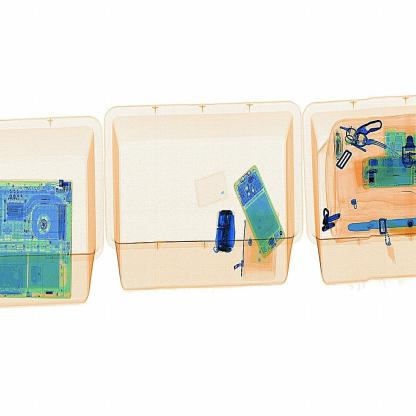scissors: (205, 193, 241, 264)
